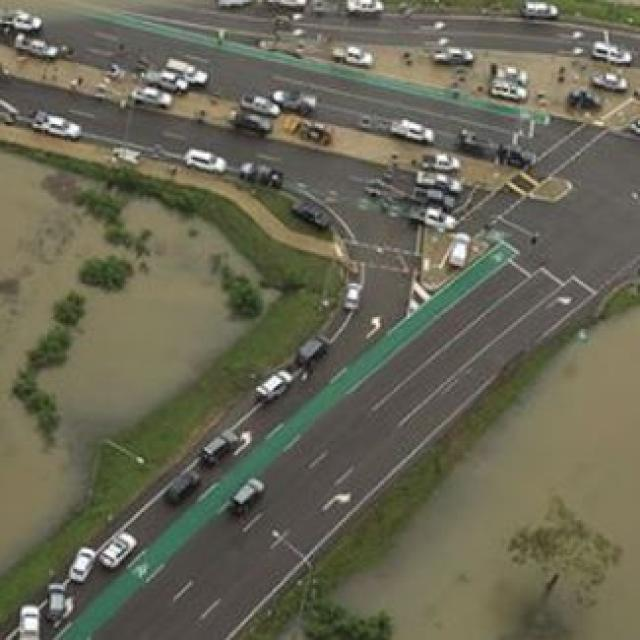flooded_areas: (293, 286, 638, 636), (0, 104, 266, 520)
